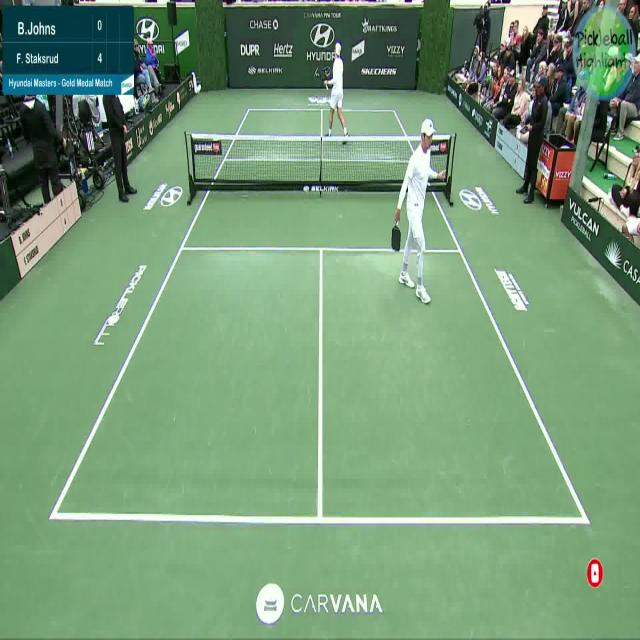Court: (53, 110, 587, 520)
